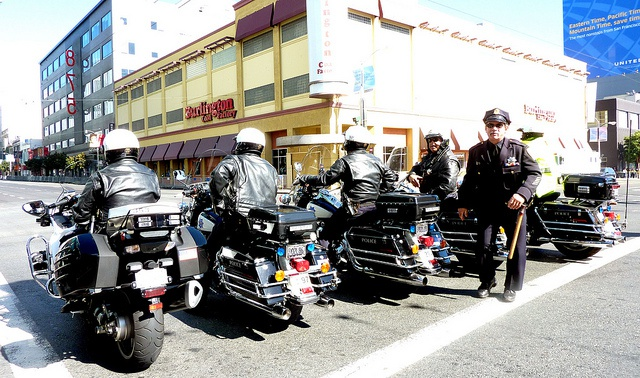non-vehicle: (24, 197, 210, 344), (176, 150, 319, 325), (292, 162, 451, 299), (526, 172, 627, 259), (435, 201, 510, 274)
